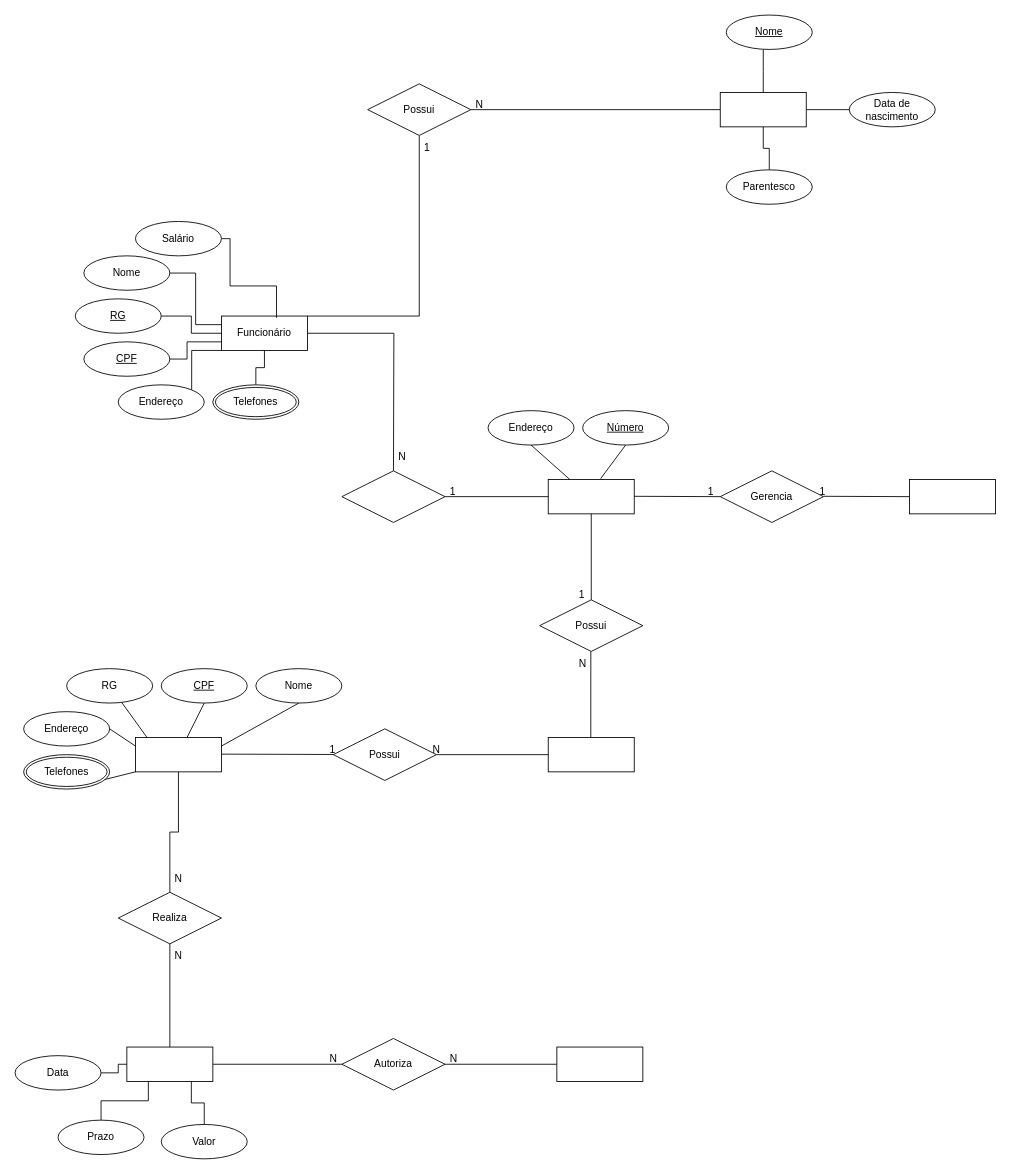
This 1011x1174 diagram has some shape labels left out. The centre of each missing label's shape, as x and y in pixels:
Agência: (x=590, y=496)
Cliente: (x=178, y=754)
Conta: (x=590, y=754)
Dependente: (x=762, y=109)
Empréstimo: (x=169, y=1063)
Gerente: (x=952, y=496)
Setor de crédito: (x=599, y=1063)
Trabalha: (x=393, y=496)
